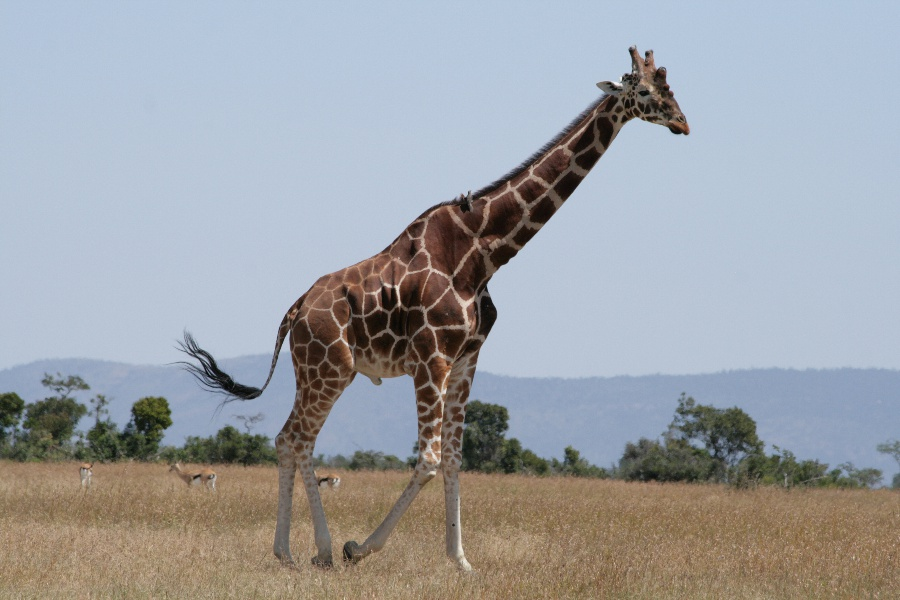giraffe: (249, 39, 697, 578)
